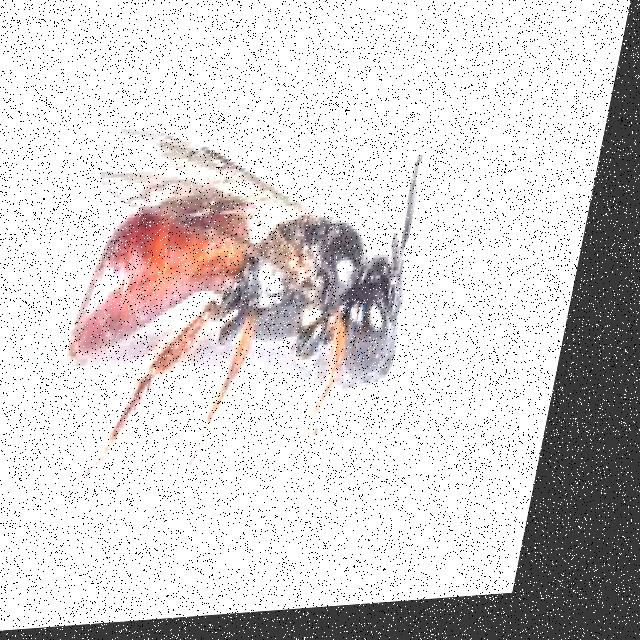Lasioglossum: (40, 103, 471, 473)
